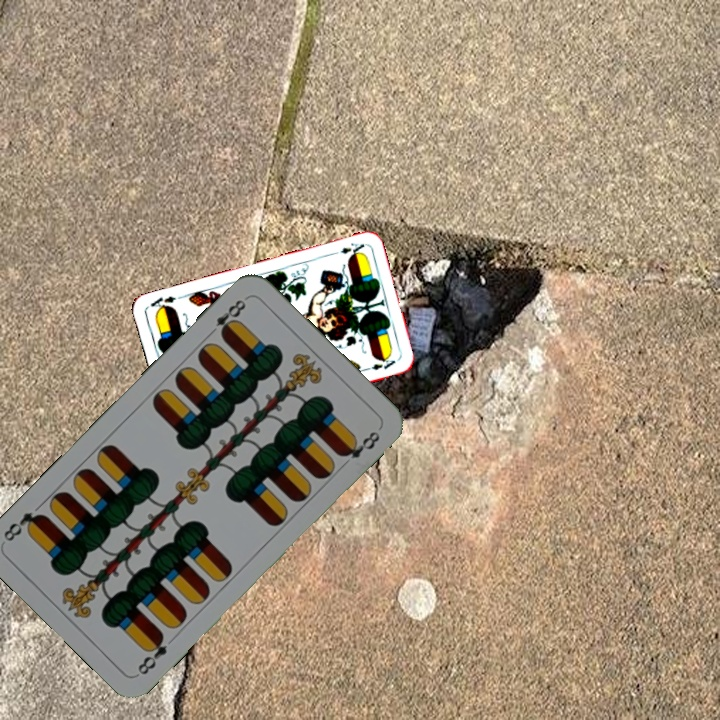E8: (203, 295, 249, 340), (133, 629, 170, 678)
EA: (337, 239, 367, 259)
